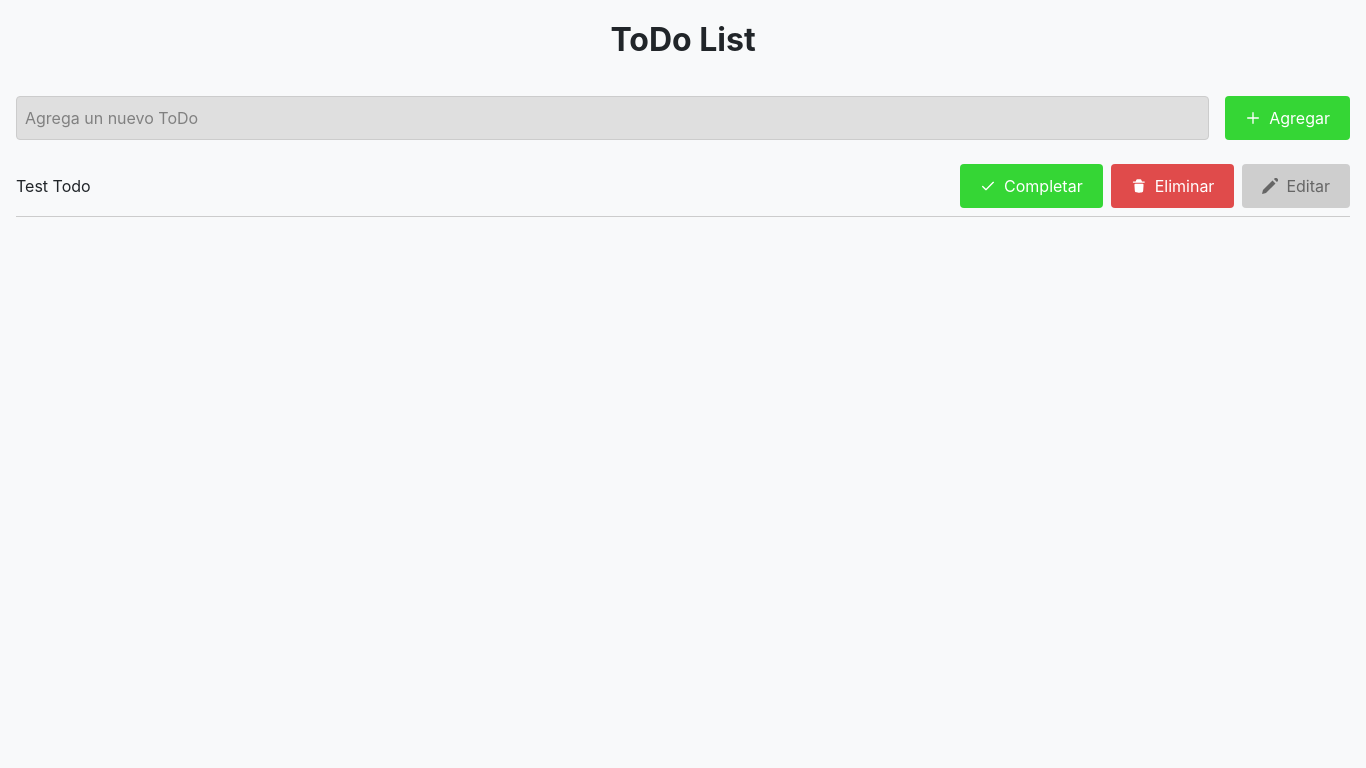
Test: TodoPage Test Suite › opens the edit modal when an edit button is clicked
Click the button "Editar": (1296, 186) [1242, 164, 1350, 208]
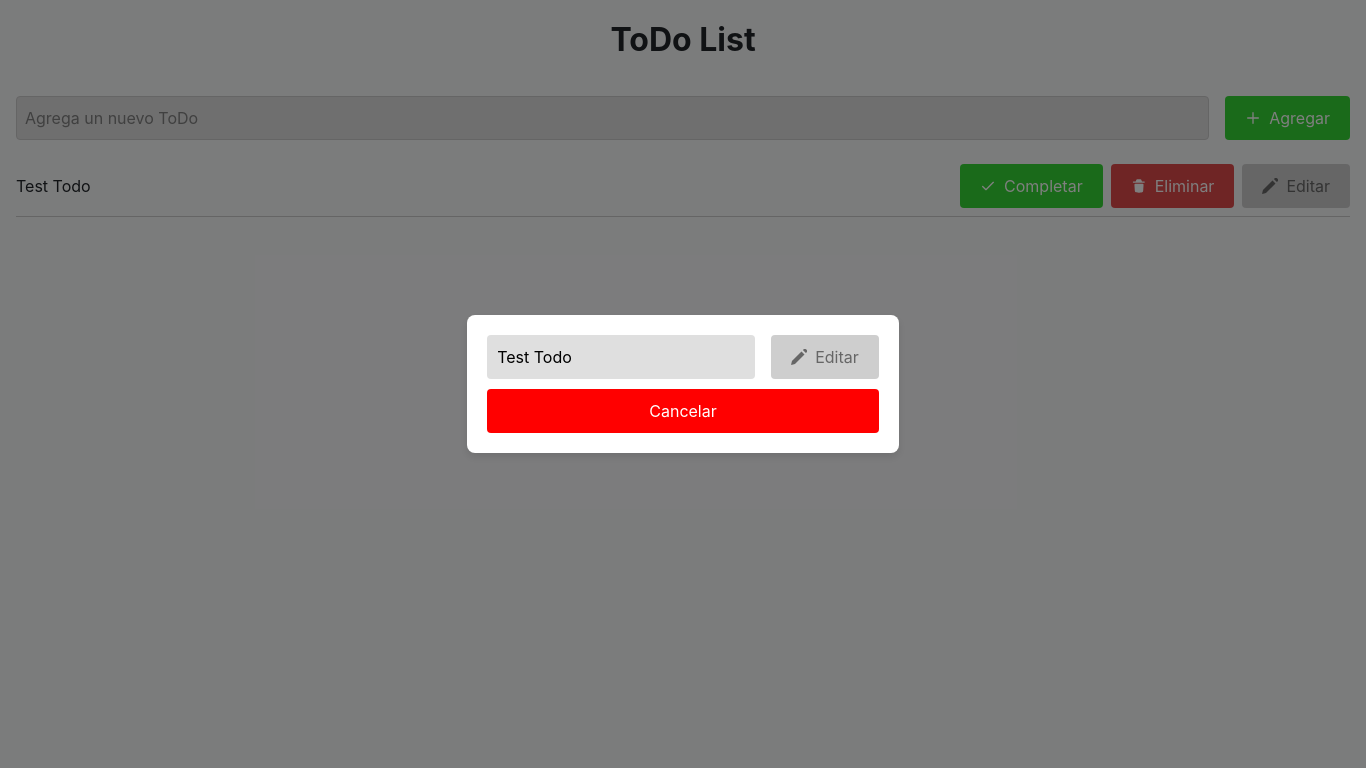
Now the field with placeholder "Edita tu ToDo" is shown, box [487, 335, 755, 379]
